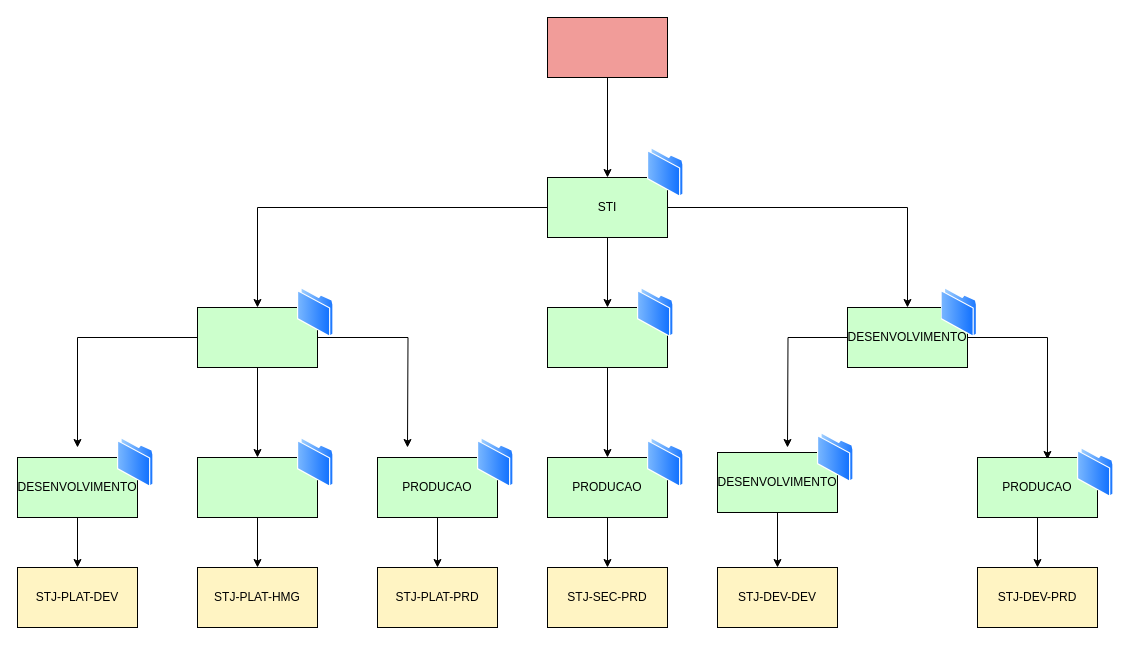
Image size: 1131x645. Some labels were removed from this diagram. The box of each missing label's shape, as (x1, y1, x2, y2) in pixels:
HOMOLOGACAO: (196, 456, 318, 518)
PLATAFORMA: (196, 306, 318, 368)
SEGURANÇA: (546, 306, 668, 368)
STJ: (546, 16, 668, 78)
